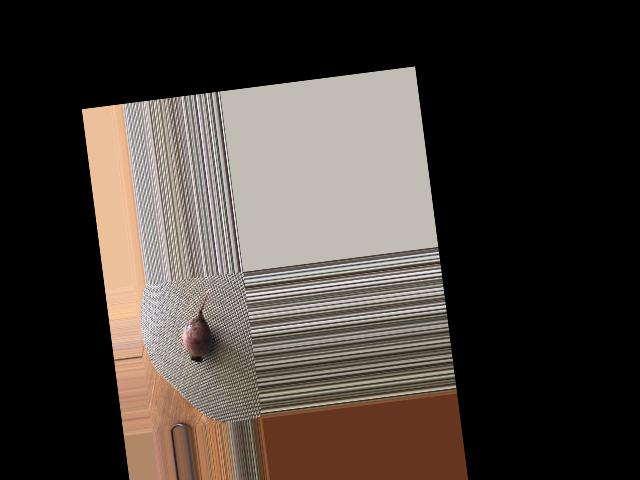beet: (176, 288, 221, 364)
